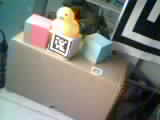duck: (43, 3, 80, 33)
